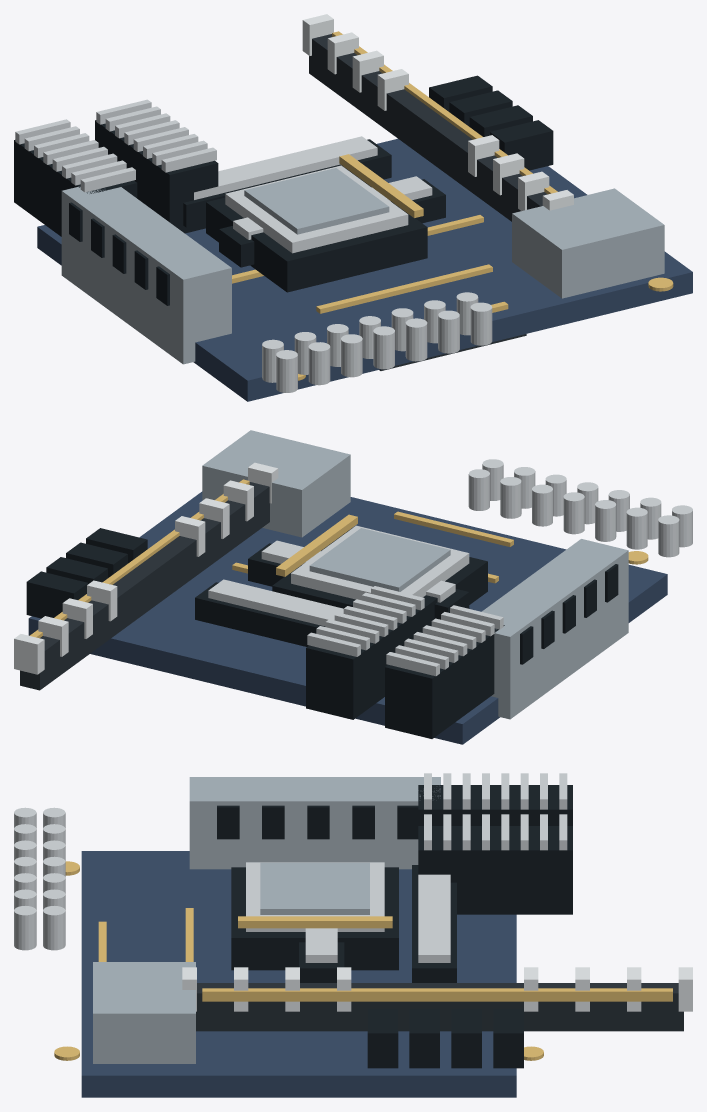
Rendered from b760-matx.glb.
The picture shows the model from 3 angles, top to bottom: view 1: azimuth 30°, elevation 25°; view 2: azimuth 150°, elevation 25°; view 3: azimuth 270°, elevation 25°; orthographic projection. The views are drawn at different scales.
Visible parts, largest first — view 1: b760-matx; view 2: b760-matx; view 3: b760-matx.
Part boxes in pixels (box(x1,y1,x2,y2)): b760-matx: box(14, 14, 692, 401); b760-matx: box(14, 430, 692, 744); b760-matx: box(14, 773, 692, 1097).
Bounding box in the file's own units: 1.7 × 0.3625 × 2.11.
